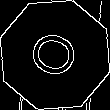O_E: (24, 26, 86, 84)
